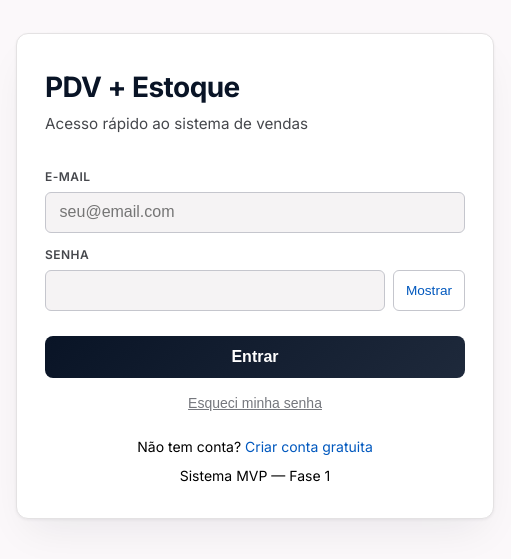
Test case: LoginPage › exibe mensagem amigável em 401
The width and height of the screenshot is (511, 559).
In the field labelled "E-mail": [255, 212] box [45,192,465,233], type "a@b.com"
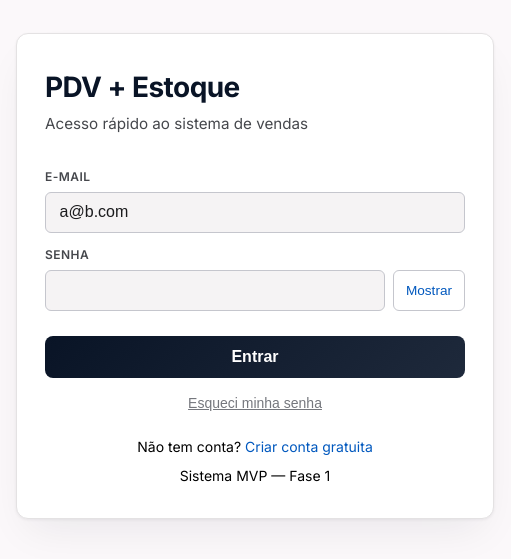
In the password field labelled "Senha": [215, 290] box [45,270,385,311], type "wrong"
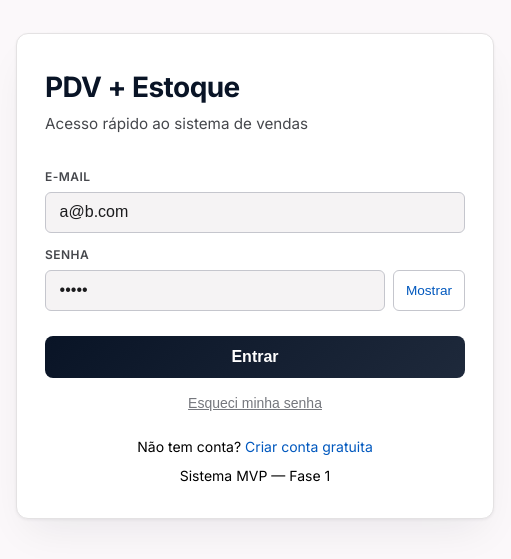
Click the button "Entrar": [255, 357] box [45,336,465,378]
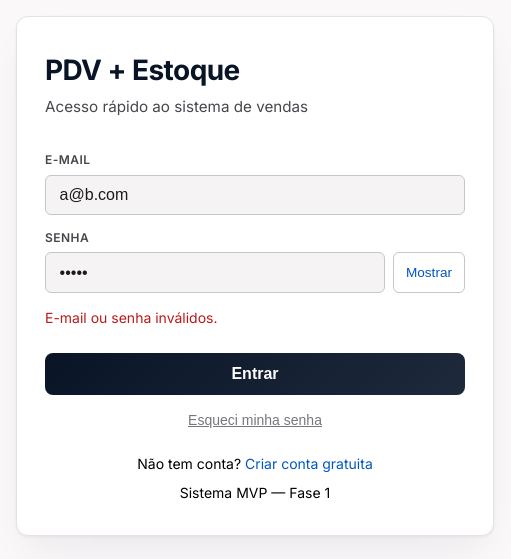
Expected: the message shows "E-mail ou senha inválidos", [45,309,218,326]
